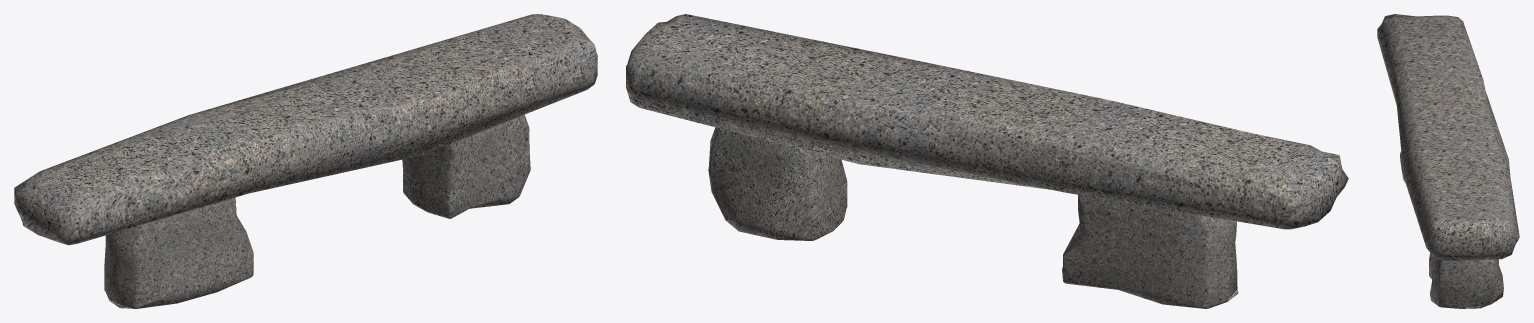
The model's file is BenchGranit.FBX.
3 renders of one model, left to right at view 1: azimuth 30°, elevation 25°; view 2: azimuth 150°, elevation 25°; view 3: azimuth 270°, elevation 25°, orthographic. The views are drawn at different scales.
Visible parts, largest first — view 1: RockBench2_ncl1_1, RockBench1, RockBench2; view 2: RockBench2_ncl1_1, RockBench1, RockBench2; view 3: RockBench2_ncl1_1, RockBench2.
Part boxes in pixels (bbox=[...]): RockBench2_ncl1_1: bbox=[14, 14, 597, 245]; RockBench1: bbox=[104, 197, 253, 308]; RockBench2: bbox=[402, 114, 530, 218]; RockBench2_ncl1_1: bbox=[626, 14, 1348, 229]; RockBench1: bbox=[1062, 195, 1238, 308]; RockBench2: bbox=[708, 127, 847, 240]; RockBench2_ncl1_1: bbox=[1377, 14, 1519, 261]; RockBench2: bbox=[1429, 252, 1503, 308].
Bounding box in the file's own units: 3.82 × 0.905 × 1.01.
1 material, 1 textured.
